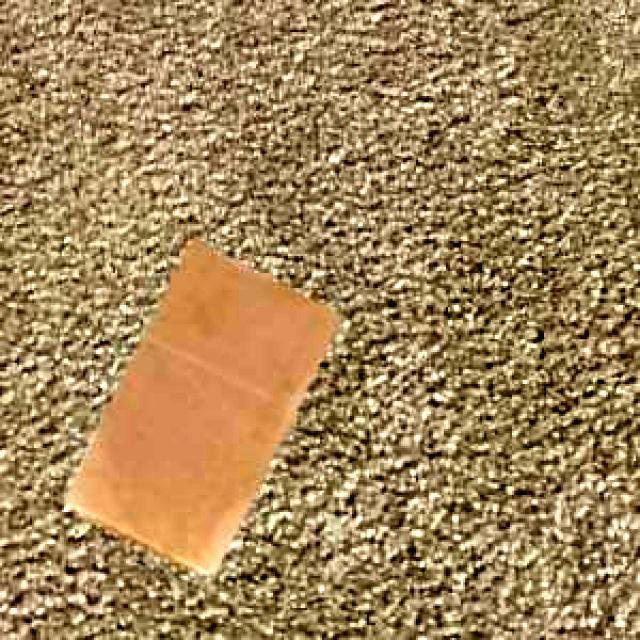Paper_Bag: (63, 238, 338, 571)
